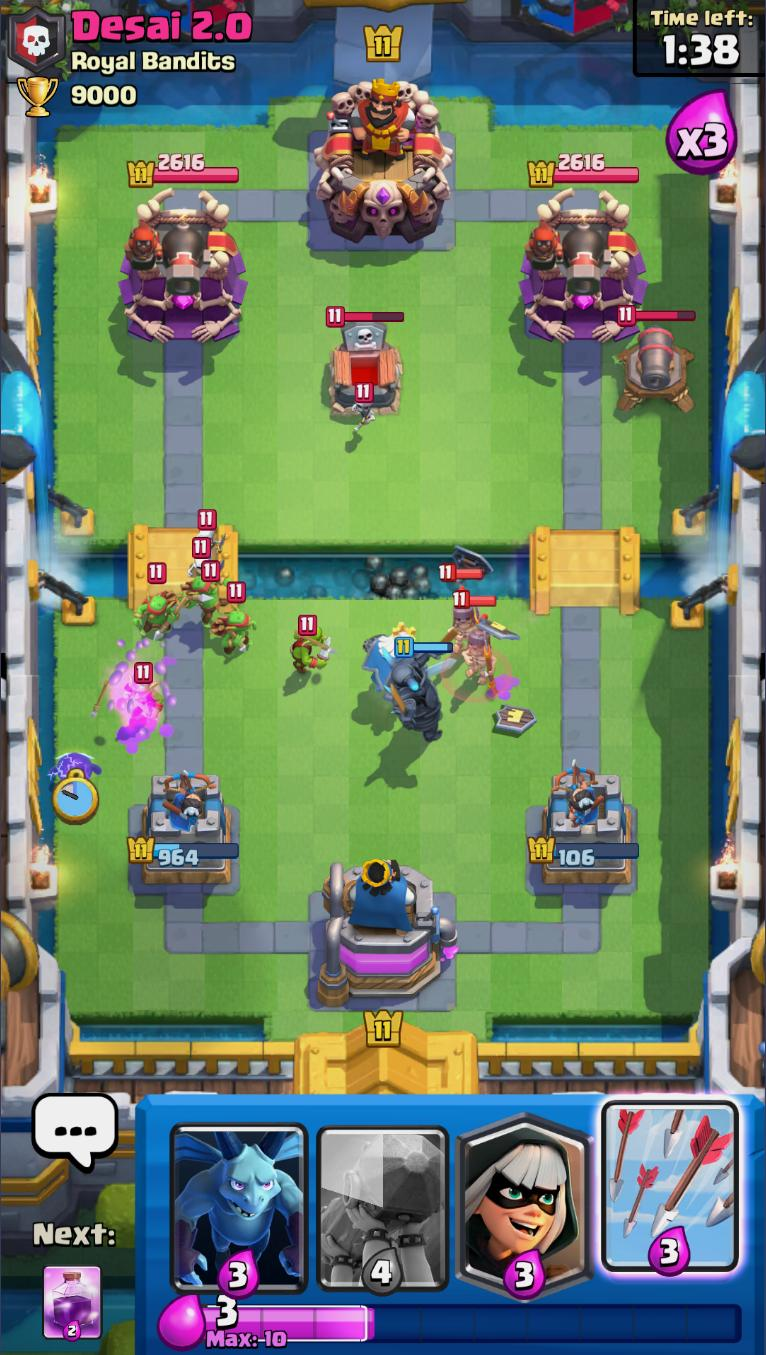ArrowDeck: (596, 1096, 741, 1293)
BanditDeck: (456, 1096, 597, 1293)
BattleRamDeck: (310, 1094, 456, 1299)
Cannon: (616, 304, 697, 419)
Cannoneer: (524, 214, 609, 300), (127, 216, 207, 300)
Elixir: (203, 1296, 743, 1346)
EnemyTower: (121, 187, 250, 343), (520, 189, 650, 343)
Goblin: (289, 613, 334, 679), (121, 661, 161, 721)
Guards: (451, 587, 497, 686), (436, 560, 483, 656)
KingTower: (314, 77, 456, 246)
MinionsDeck: (167, 1094, 313, 1294)
MyElectroSpirit: (49, 747, 103, 786)
MyKingTower: (319, 860, 457, 1011)
MyPekka: (381, 634, 454, 744)
MyPrincessTower: (527, 774, 641, 890), (127, 776, 241, 890)
MyPrincessTowerHP: (127, 833, 241, 869), (526, 836, 641, 869)
MyRoyaleGhost: (366, 621, 420, 699)
RageNext: (41, 1261, 101, 1346)
Skeleton: (193, 509, 229, 556), (349, 380, 377, 436), (186, 539, 220, 579)
SpearGoblin: (134, 560, 181, 639), (214, 580, 260, 659), (184, 561, 227, 630)
Tombstone: (320, 303, 409, 423)
TowerPrincessHP: (129, 153, 241, 189), (529, 153, 640, 189)
